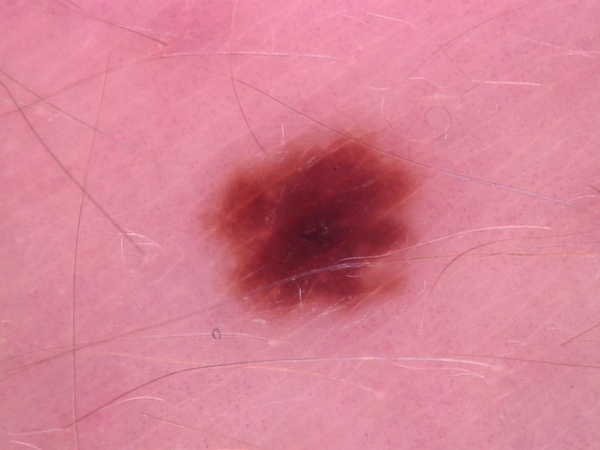Detected Lesion: (195, 123, 438, 326)
